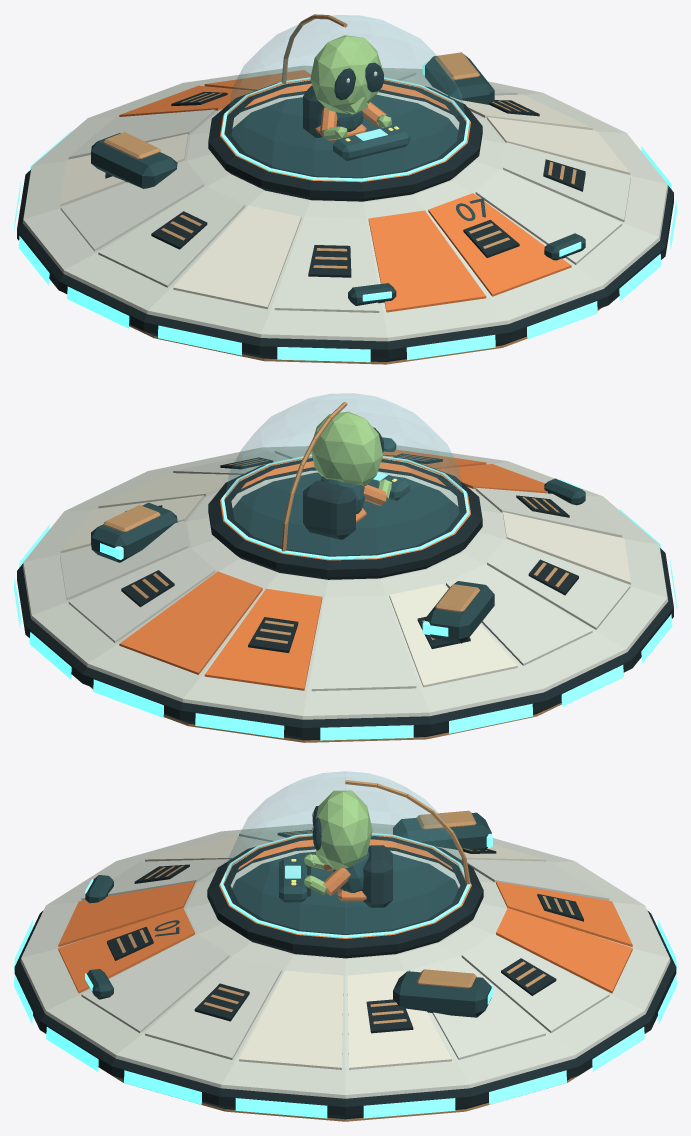
File: scout-07.glb
3 views of the same model, one above another, from view 1: azimuth 30°, elevation 25°; view 2: azimuth 150°, elevation 25°; view 3: azimuth 270°, elevation 25° (orthographic).
Visible parts, largest first — view 1: Hull • upper shell, Canopy • faceted glass, Cockpit • floor, Hull • bumper belt, Cockpit • dark gasket, Hull panel 10, Hull panel 12, Hull panel 11, Hull panel 09, Hull panel 13, Hull panel 14, Hull panel 08 (+29 smaller); view 2: Hull • upper shell, Canopy • faceted glass, Cockpit • floor, Hull • bumper belt, Cockpit • dark gasket, Hull panel 06, Hull panel 04, Hull panel 05, Hull panel 08, Hull panel 07, Hull panel 03, Hull panel 09 (+28 smaller); view 3: Hull • upper shell, Canopy • faceted glass, Cockpit • floor, Hull • bumper belt, Cockpit • dark gasket, Hull panel 16, Hull panel 14, Hull panel 15, Hull panel 01, Hull panel 03, Hull panel 04, Hull panel 02 (+31 smaller).
Part boxes in pixels (bbox=[...]): Hull • upper shell: bbox=[22, 65, 668, 341]; Canopy • faceted glass: bbox=[225, 15, 465, 177]; Cockpit • floor: bbox=[231, 94, 458, 177]; Hull • bumper belt: bbox=[17, 170, 673, 360]; Cockpit • dark gasket: bbox=[208, 80, 482, 201]; Hull panel 10: bbox=[173, 205, 301, 309]; Hull panel 12: bbox=[368, 210, 486, 312]; Hull panel 11: bbox=[274, 217, 379, 312]; Hull panel 09: bbox=[98, 186, 244, 287]; Hull panel 13: bbox=[428, 193, 571, 296]; Hull panel 14: bbox=[475, 169, 622, 264]; Hull panel 08: bbox=[60, 160, 203, 251]; Hull • upper shell: bbox=[22, 445, 668, 719]; Canopy • faceted glass: bbox=[225, 393, 465, 555]; Cockpit • floor: bbox=[232, 472, 459, 555]; Hull • bumper belt: bbox=[17, 548, 673, 739]; Cockpit • dark gasket: bbox=[208, 457, 482, 579]; Hull panel 06: bbox=[311, 595, 416, 691]; Hull panel 04: bbox=[119, 571, 262, 674]; Hull panel 05: bbox=[204, 588, 322, 690]; Hull panel 08: bbox=[446, 564, 592, 665]; Hull panel 07: bbox=[389, 584, 517, 687]; Hull panel 03: bbox=[68, 547, 215, 642]; Hull panel 09: bbox=[487, 538, 630, 629]; Hull • upper shell: bbox=[20, 823, 670, 1098]; Canopy • faceted glass: bbox=[224, 771, 465, 934]; Cockpit • floor: bbox=[232, 851, 458, 933]; Hull • bumper belt: bbox=[14, 910, 676, 1118]; Cockpit • dark gasket: bbox=[207, 835, 483, 958]; Hull panel 16: bbox=[239, 970, 343, 1069]; Hull panel 14: bbox=[81, 934, 229, 1032]; Hull panel 15: bbox=[145, 956, 281, 1059]; Hull panel 01: bbox=[347, 970, 451, 1069]; Hull panel 03: bbox=[461, 934, 609, 1032]; Hull panel 04: bbox=[496, 908, 632, 993]; Hull panel 02: bbox=[409, 956, 545, 1059].
Size of the model in its own units: 9.12 by 3.93 by 9.12.
